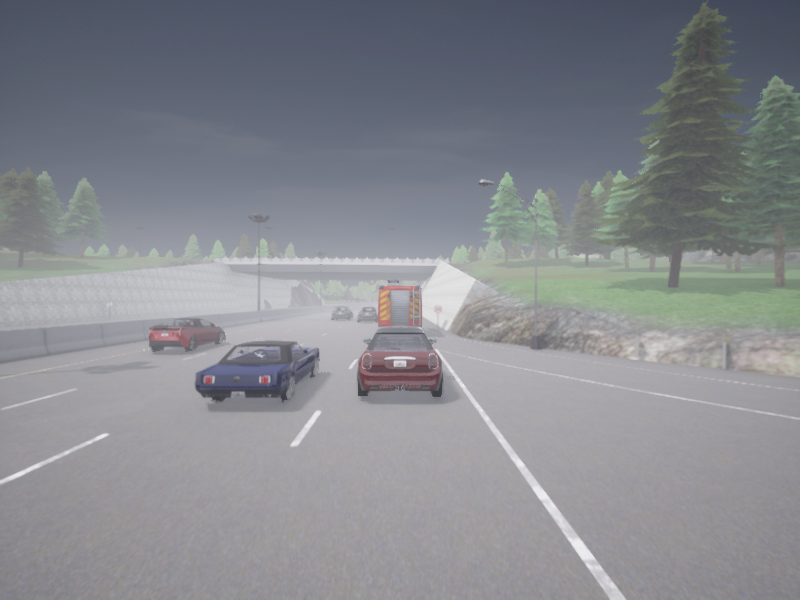vehicle: (195, 341, 319, 401), (357, 326, 442, 396), (148, 318, 224, 351), (378, 278, 421, 327), (358, 307, 377, 321), (332, 306, 352, 319)
